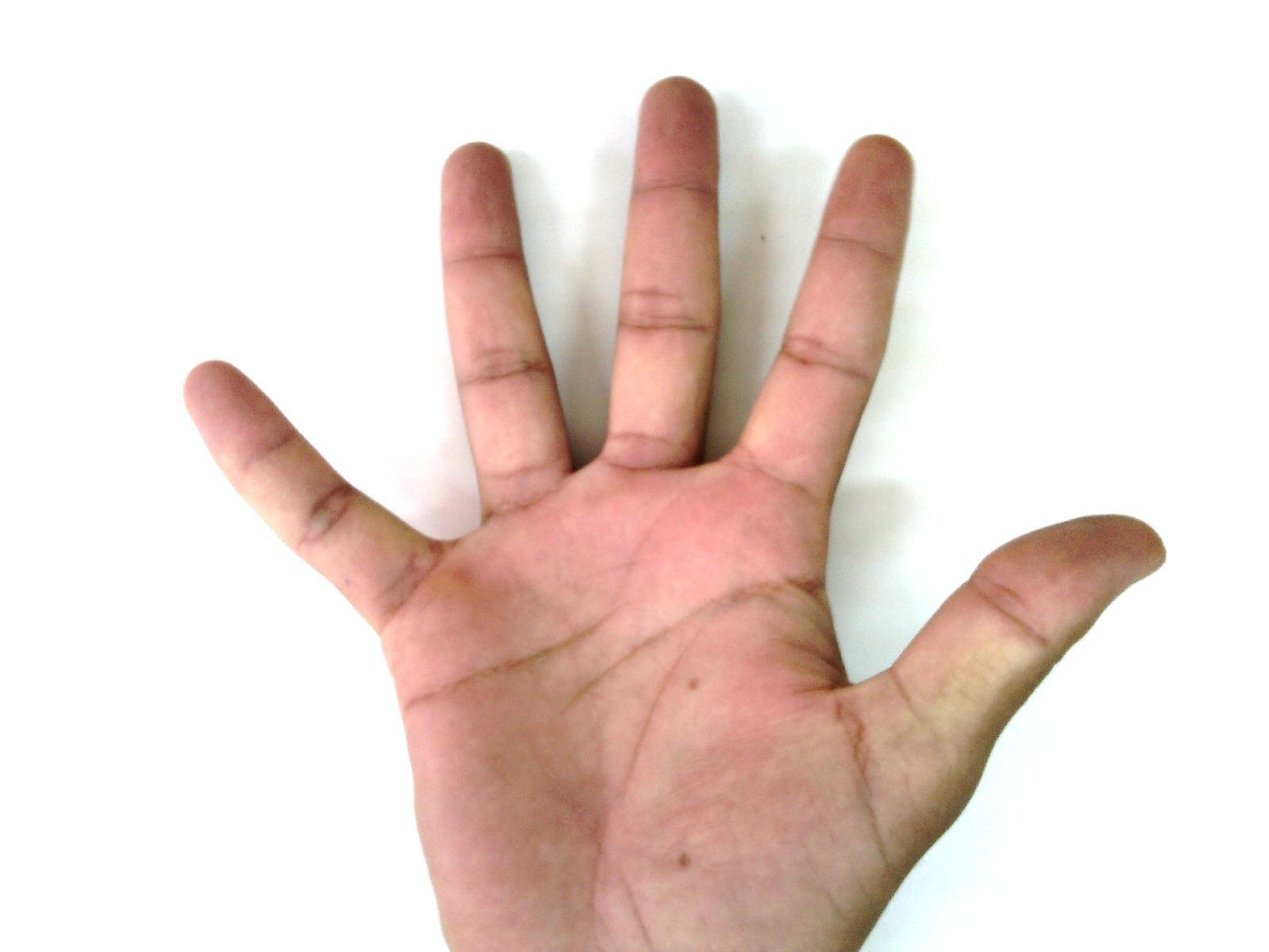open_palm: (181, 74, 1168, 951)
